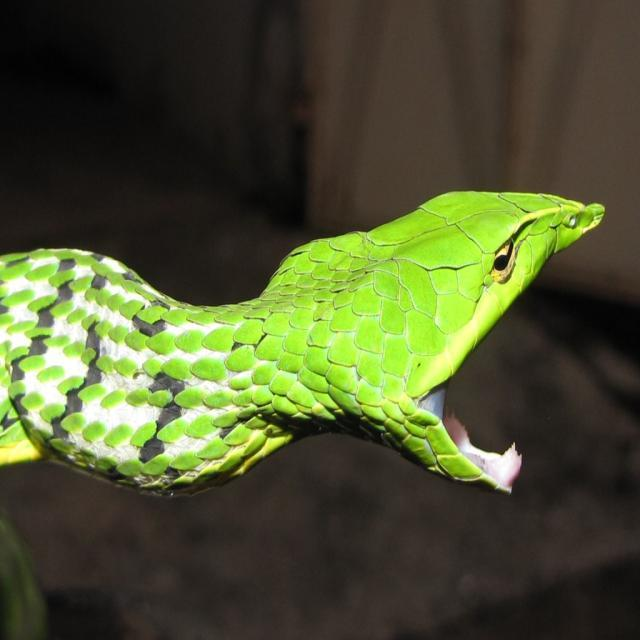Snake: (0, 186, 605, 499)
